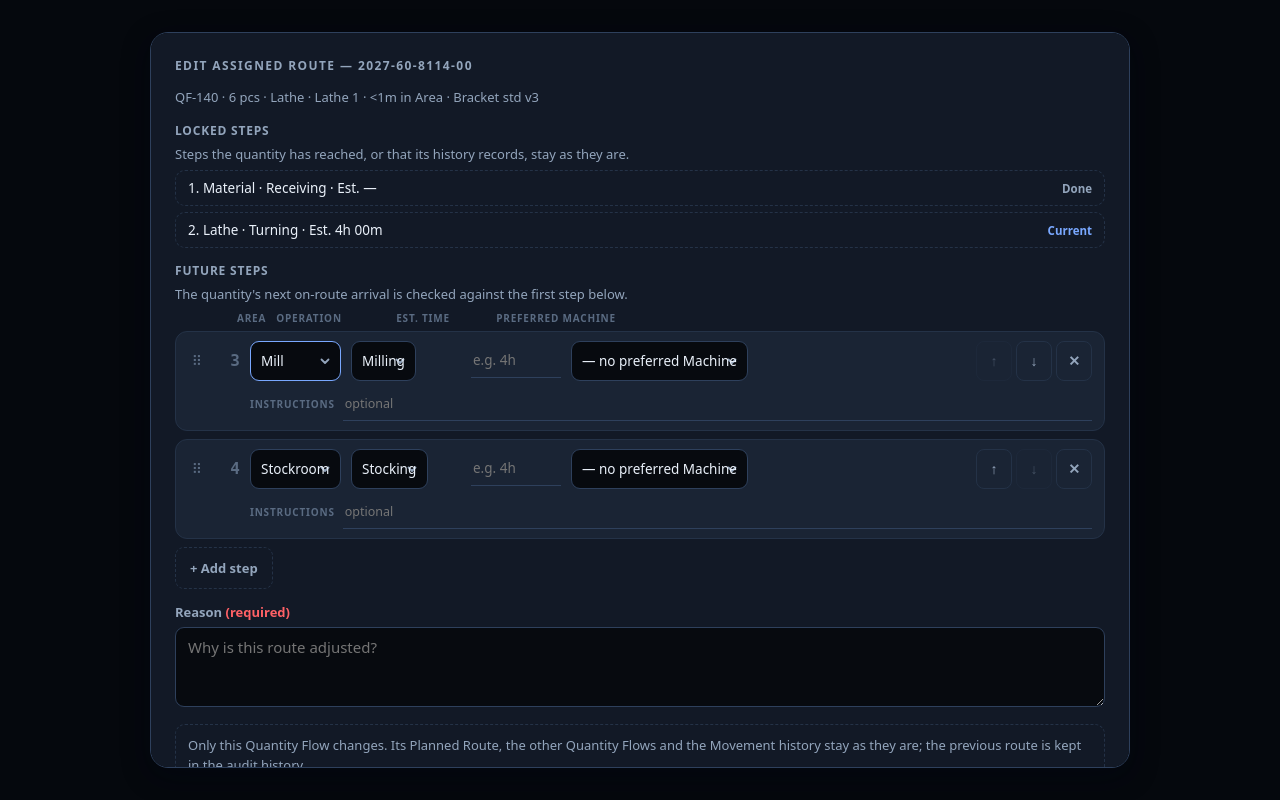
Test: FE-3: locked steps are read-only rows; the future steps continue the numbering
Expected: the dropdown named "Step 3 Area" shows "Mill", [250,340,341,380]
Expected: the dropdown named "Step 4 Area" shows "Stockroom", [250,448,341,488]
// Removing down to zero future steps is allowed.
Click the button named "Remove step 4" at x=1074, y=468, box [1056,448,1092,488]
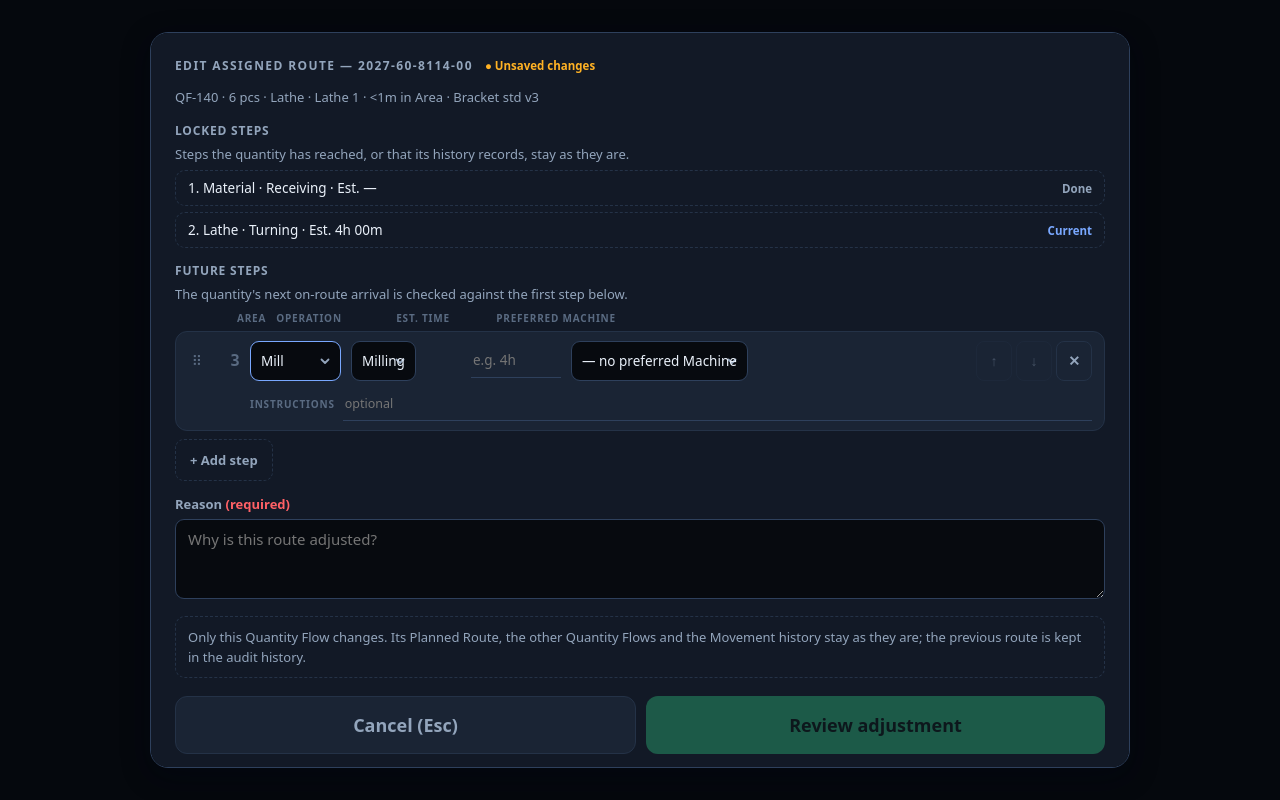
Click the button named "Remove step 3" at x=1074, y=360, box [1056,340,1092,380]
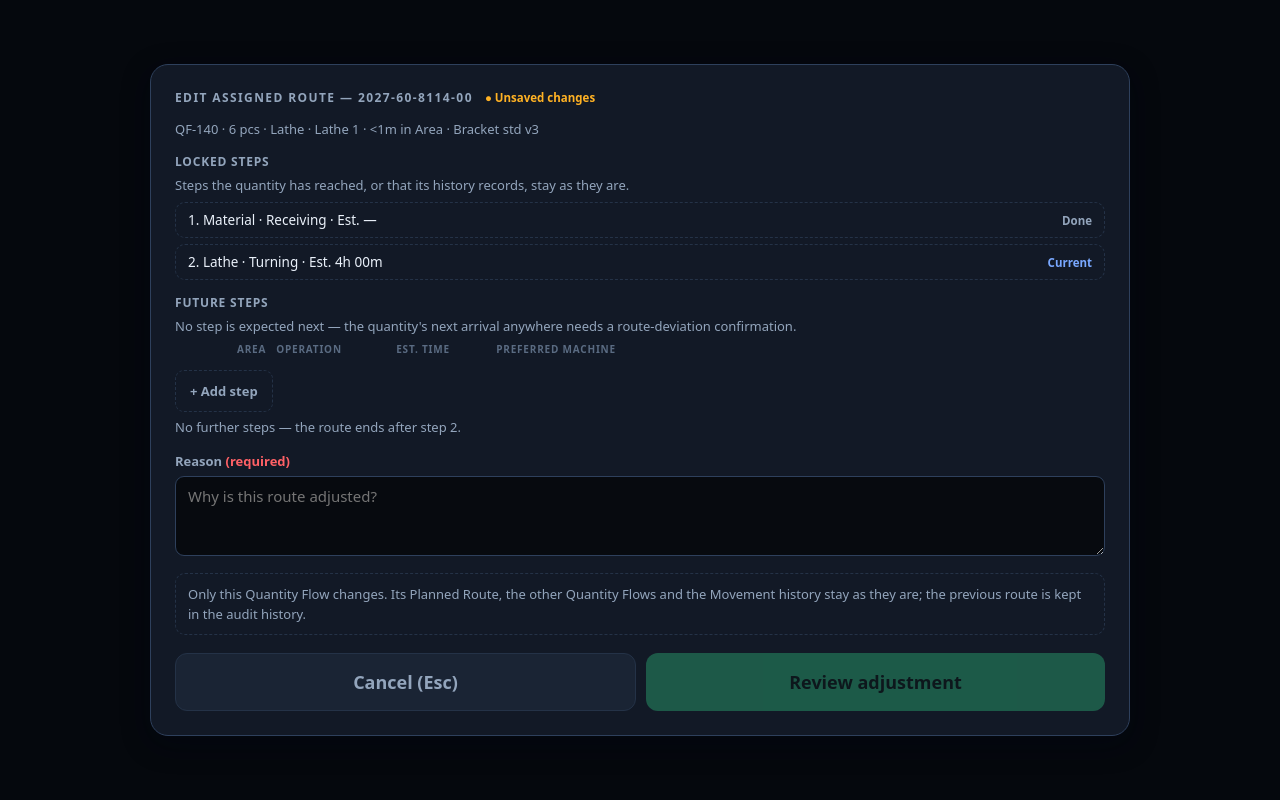
// `+ Add step` starts in the last locked step's Area.
Click the button "+ Add step" at x=224, y=391, box [175,370,273,412]
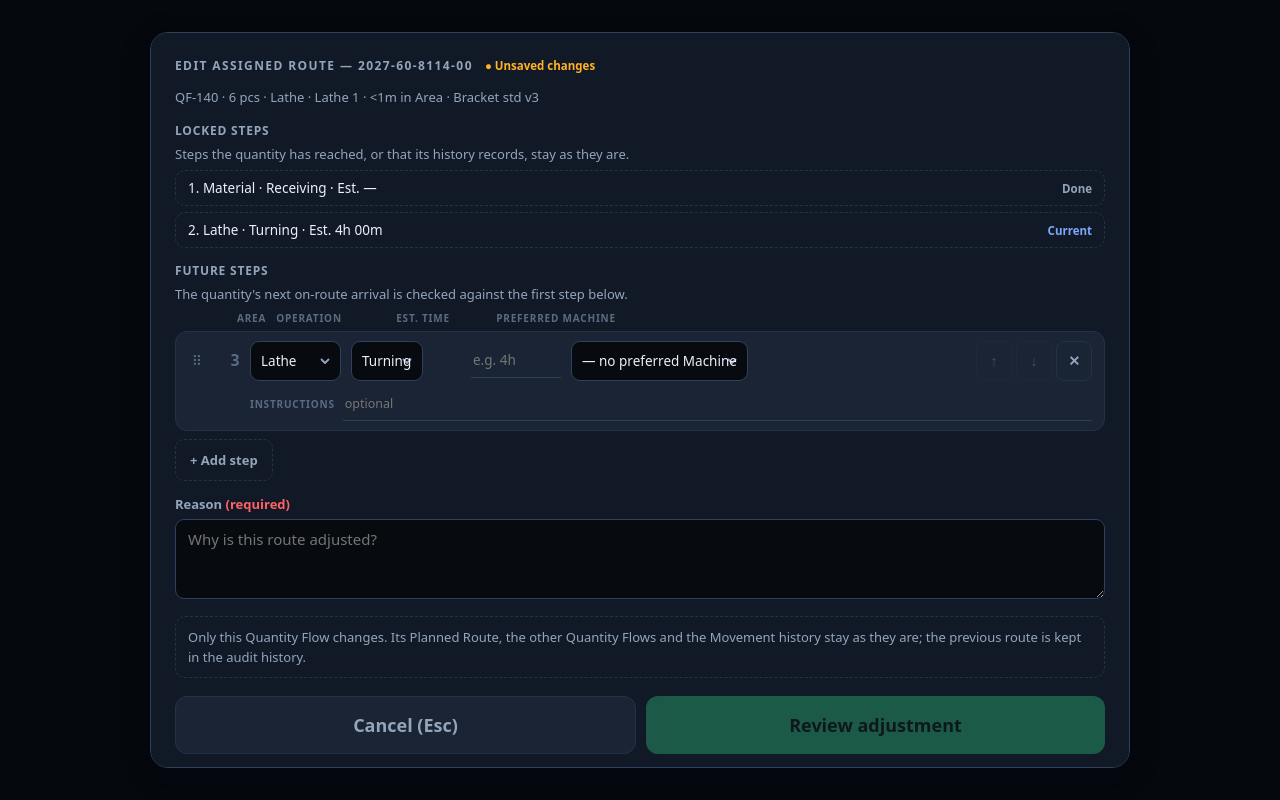
Result: the dropdown named "Step 3 Area" shows "Lathe" at [250,340,341,380]
Result: the dropdown named "Step 3 Operation" shows "Turning" at [351,340,423,380]
Result: the button named "Remove step 3" is enabled at [1056,340,1092,380]
